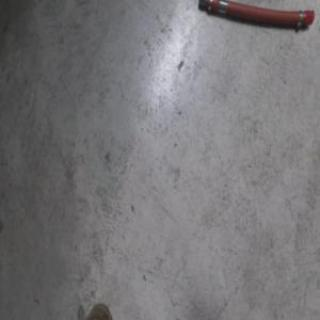Hosetrack_idkeyframe: (197, 0, 315, 31)
